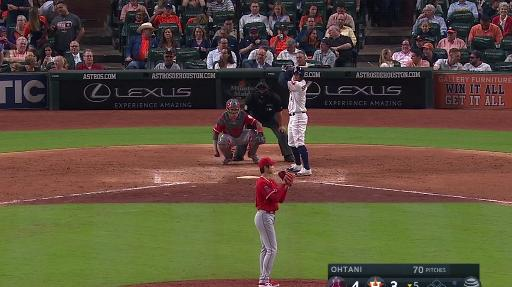pitcher: (253, 157, 292, 287)
